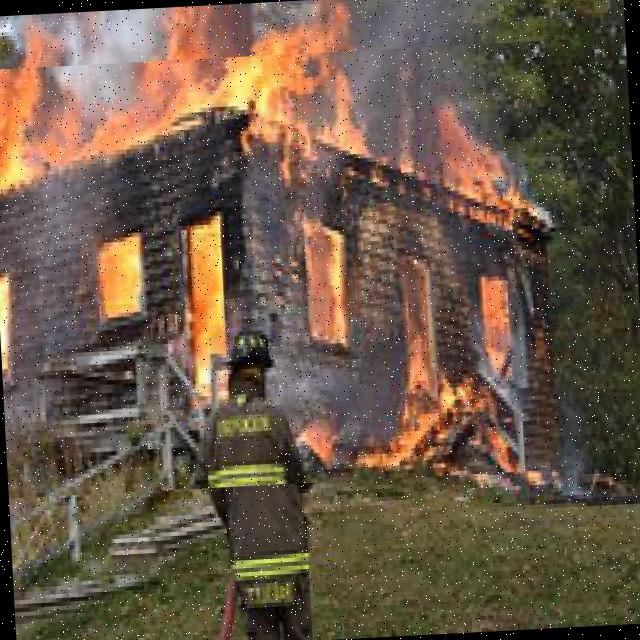fire: (0, 39, 593, 498)
